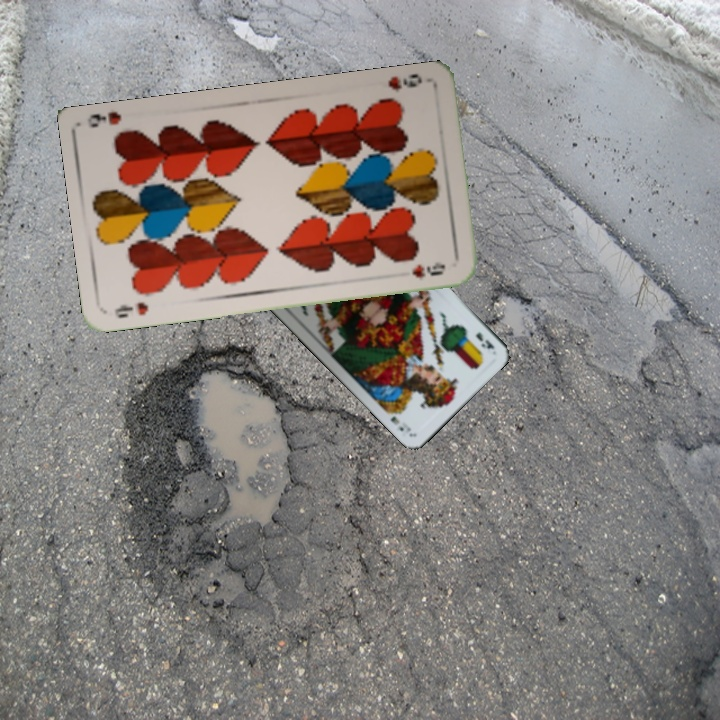EK: (471, 328, 497, 352)
H9: (384, 70, 425, 95), (110, 298, 151, 321)
